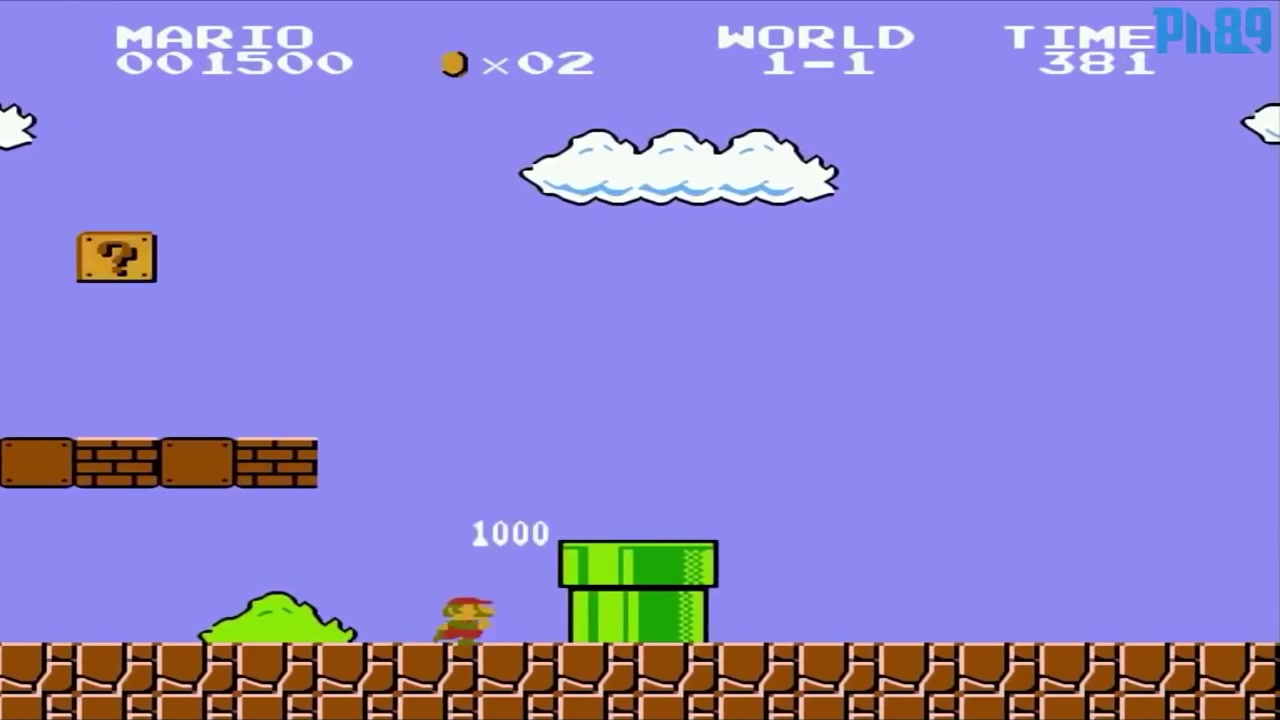mario: (426, 586, 497, 649)
